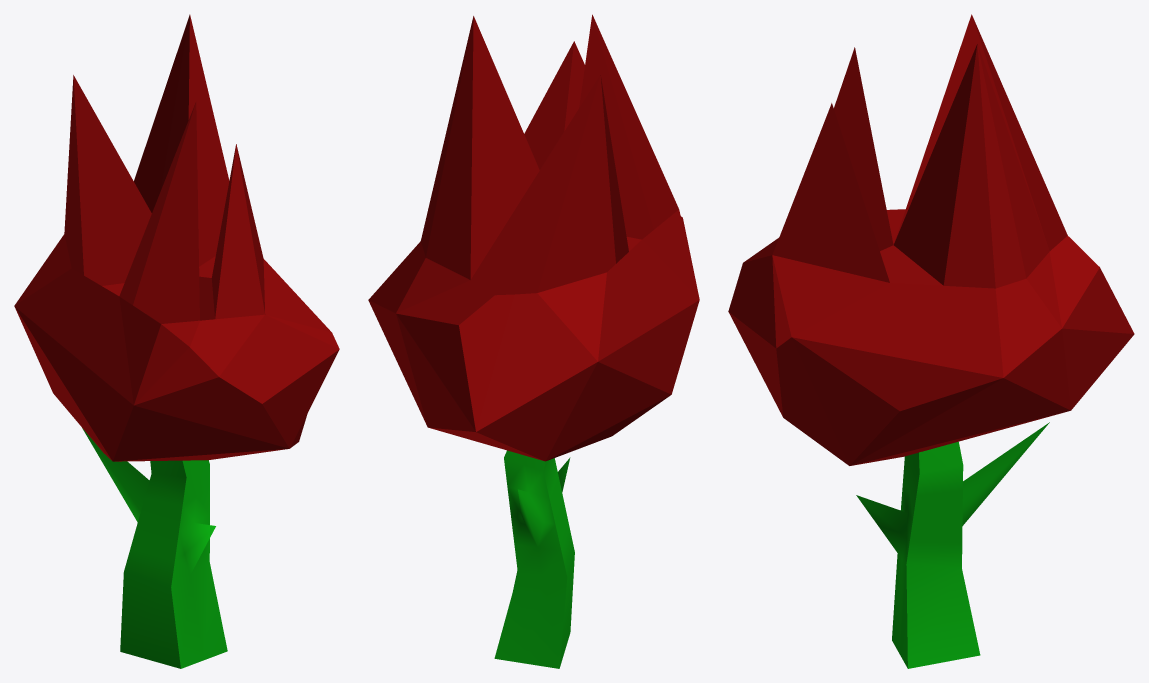
Rendered from fleur_2.FBX.
3 renders of one model, left to right at view 1: azimuth 30°, elevation 25°; view 2: azimuth 150°, elevation 25°; view 3: azimuth 270°, elevation 25°, orthographic. The views are drawn at different scales.
Parts seen in each view (by area): view 1: GeoSphere082; view 2: GeoSphere082; view 3: GeoSphere082.
Part boxes in pixels (box(x1,y1,x2,y2)): GeoSphere082: box(14, 14, 339, 668); GeoSphere082: box(368, 14, 699, 668); GeoSphere082: box(728, 14, 1134, 668).
Size of the model in its own units: 0.2173 by 0.5403 by 0.3183.
